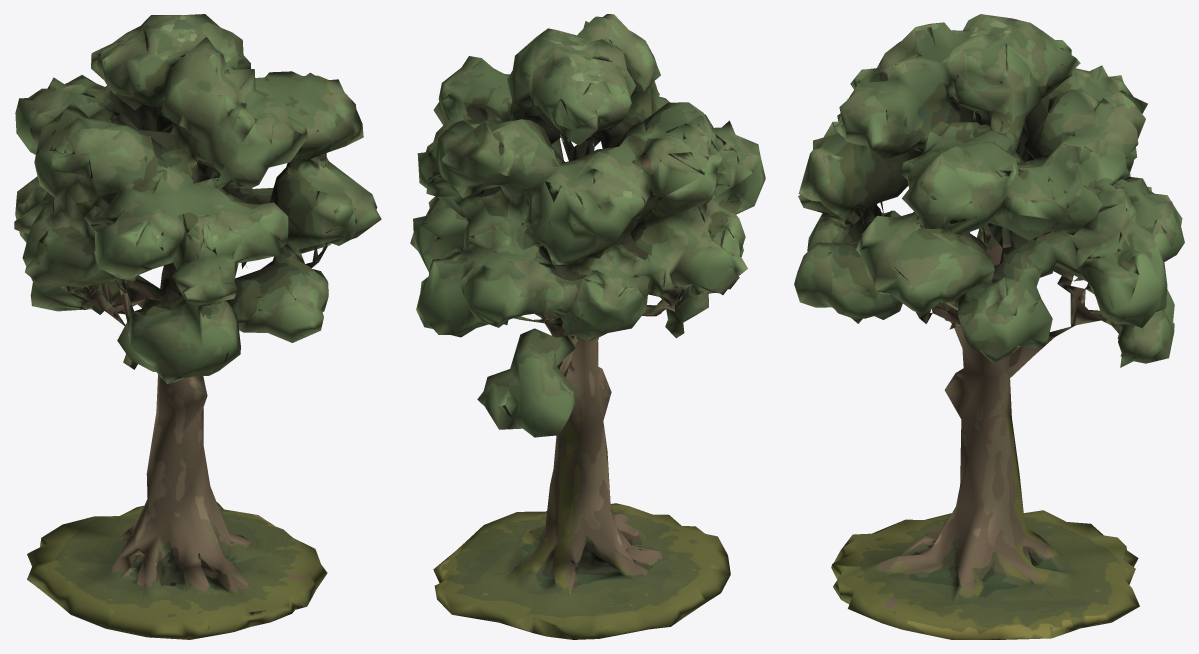
The model's file is tree.obj.
3 views of the same model, side by side, from view 1: azimuth 30°, elevation 25°; view 2: azimuth 150°, elevation 25°; view 3: azimuth 270°, elevation 25° (orthographic). The views are drawn at different scales.
Parts seen in each view (by area): view 1: mesh; view 2: mesh; view 3: mesh.
Part boxes in pixels (<box>): mesh: <box>14,14,381,639</box>; mesh: <box>410,14,765,639</box>; mesh: <box>794,14,1184,639</box>.
Bounding box in the file's own units: 1.19 × 1.9 × 1.2.
Materials: 1 (1 with a texture image).
